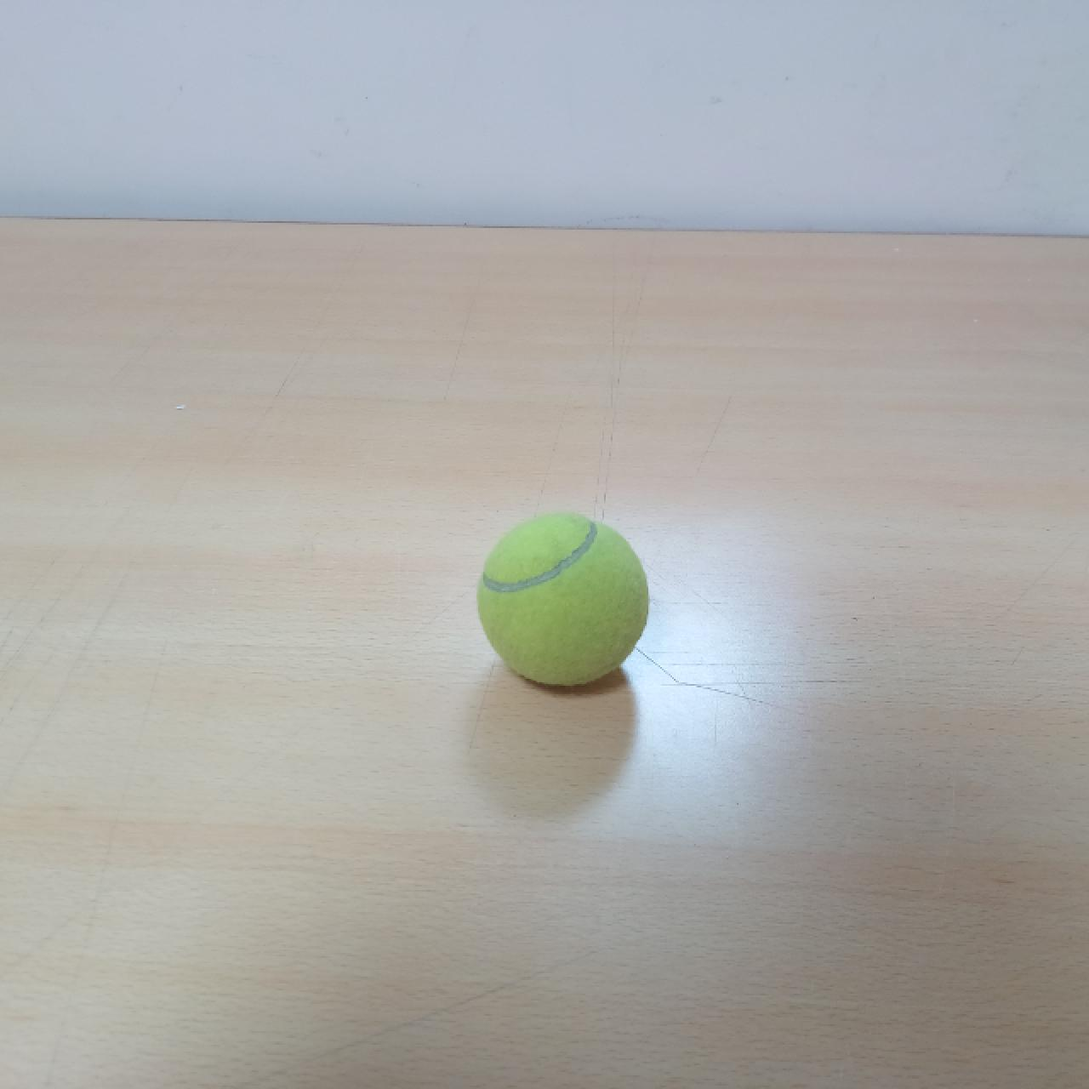tennis-ball: (481, 511, 650, 693)
